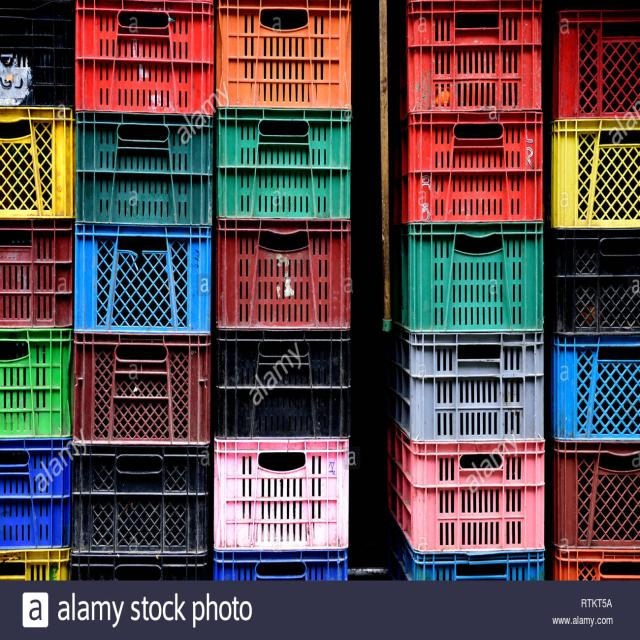basket: (388, 421, 546, 553), (388, 326, 546, 445), (400, 110, 545, 223), (395, 223, 543, 332), (379, 519, 551, 611), (74, 111, 214, 224), (72, 223, 213, 335), (75, 1, 214, 114), (216, 106, 352, 219), (73, 334, 211, 445), (214, 439, 349, 552), (407, 0, 543, 111), (71, 445, 208, 555), (216, 330, 351, 440), (216, 220, 351, 329), (216, 0, 351, 108), (547, 229, 640, 334), (549, 334, 640, 441), (552, 118, 640, 227), (0, 106, 74, 218), (0, 219, 75, 328), (0, 329, 71, 438), (214, 550, 348, 582), (70, 553, 208, 582), (0, 497, 70, 550), (0, 548, 69, 584)
